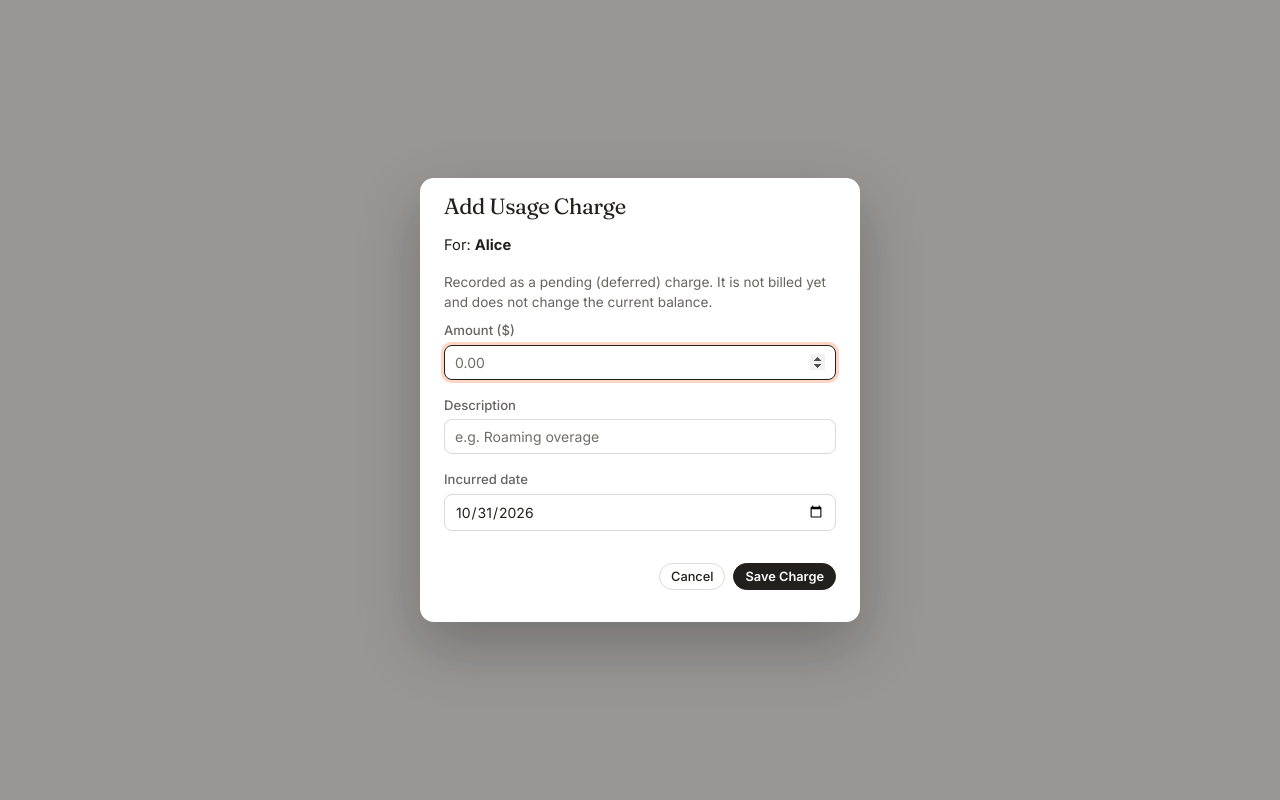
Test: UsageChargeDialog › blocks submit and shows an error for a missing description
Type "5" into the number field labelled "Amount ($)" at (640, 362), box [444,344,836,380]
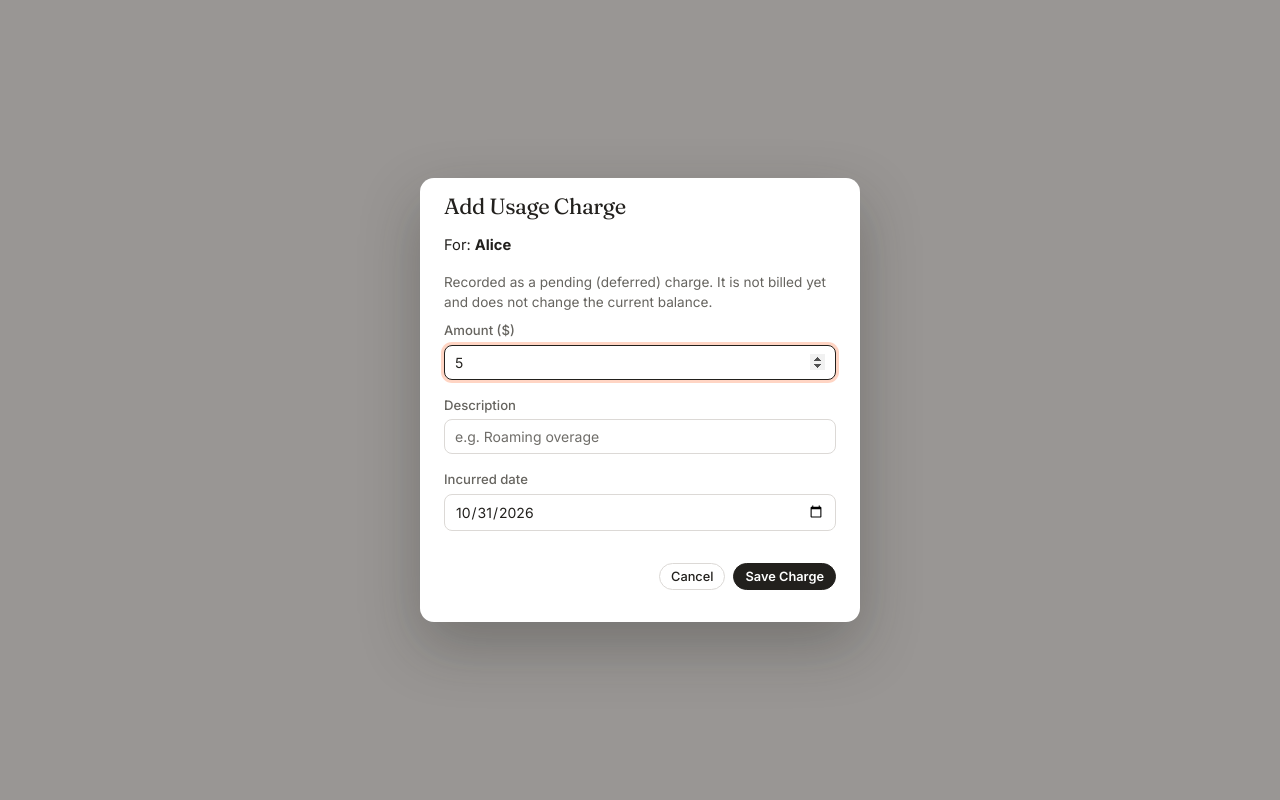
Click the button "Save Charge" at (785, 577), box [734,563,836,590]
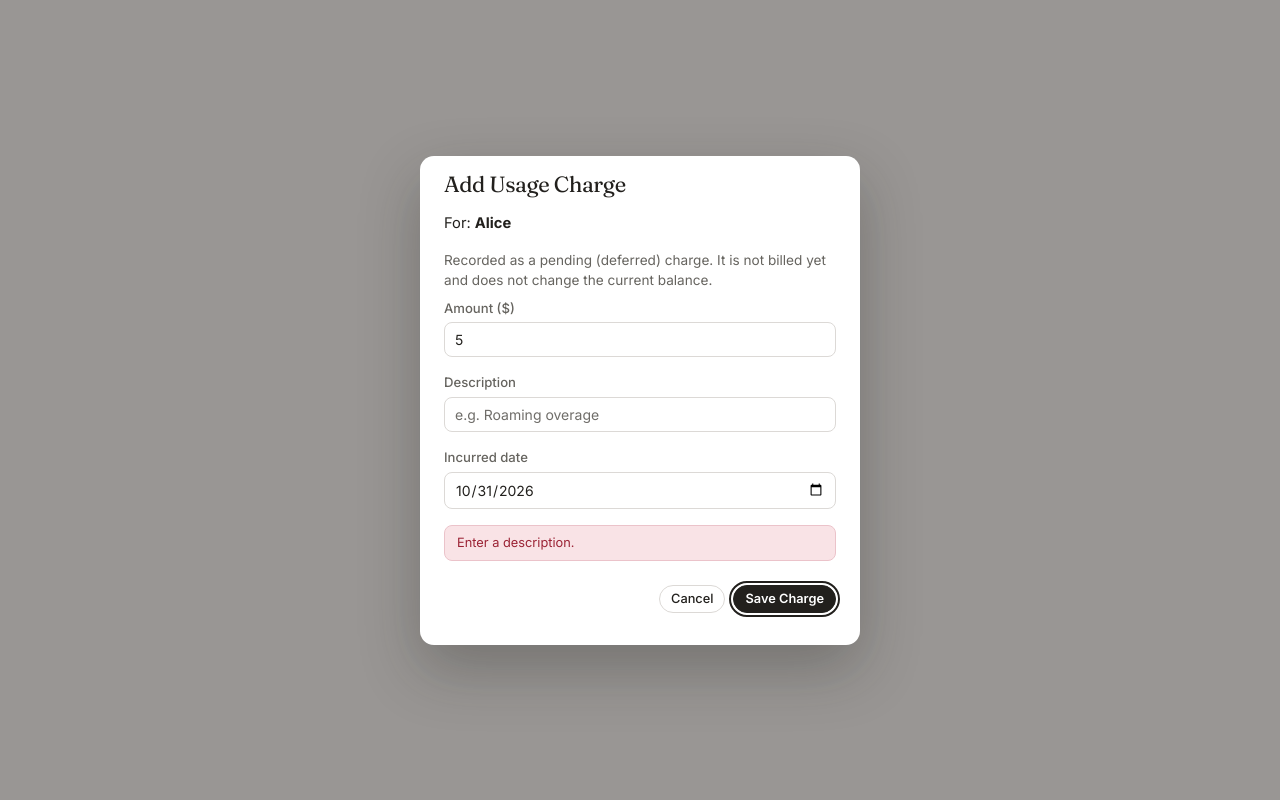
Check: the text "Enter a description." is shown, box [444,525,836,561]
